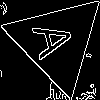A: (32, 16, 84, 61)
